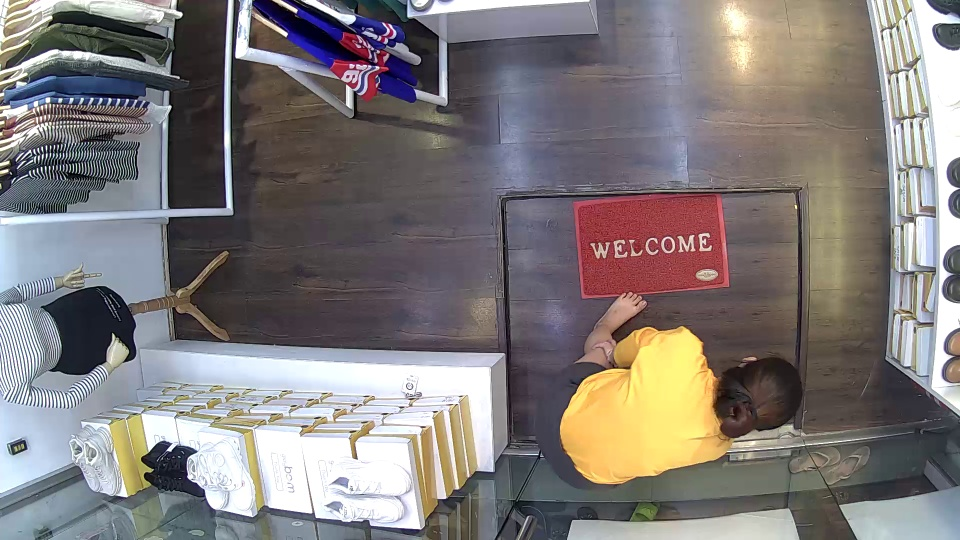topviewhead: (714, 354, 808, 439)
